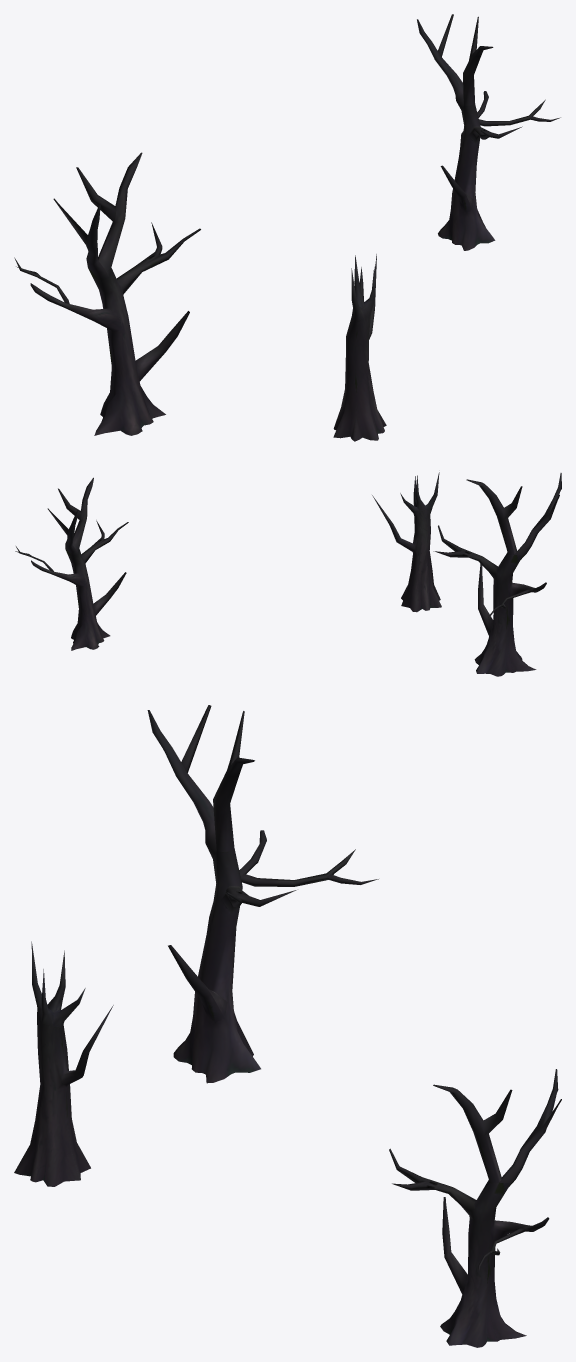
The model's file is Area09_29.fbx.
3 renders of one model, top to bottom at view 1: azimuth 30°, elevation 25°; view 2: azimuth 150°, elevation 25°; view 3: azimuth 270°, elevation 25°, orthographic. The views are drawn at different scales.
Parts seen in each view (by area): view 1: Area09_29; view 2: Area09_29; view 3: Area09_29.
Part boxes in pixels (<box>): Area09_29: <box>14,14,560,441</box>; Area09_29: <box>15,472,561,676</box>; Area09_29: <box>14,705,561,1347</box>.
Size of the model in its own units: 3825 by 1535 by 2307.
